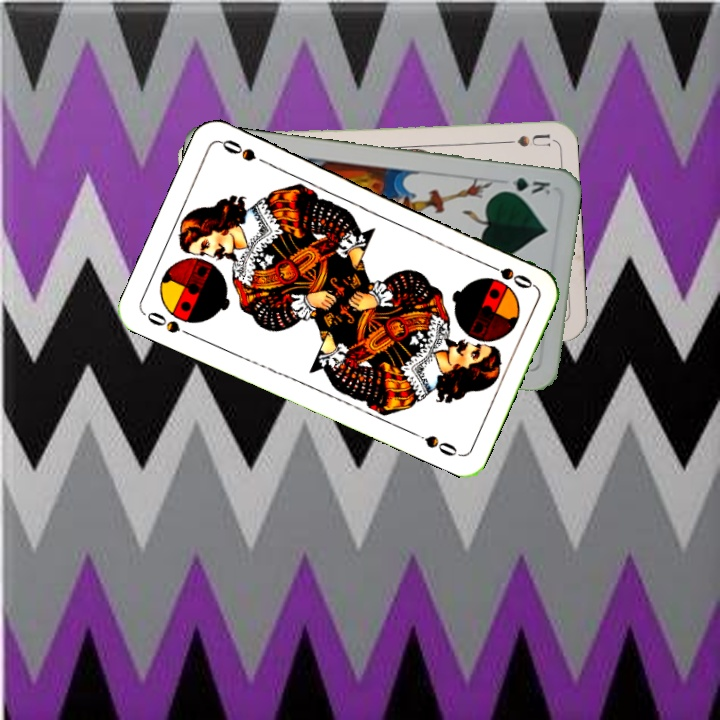GK: (496, 173, 553, 197)
SO: (480, 258, 536, 292), (141, 308, 197, 340)
SU: (492, 130, 552, 150)
